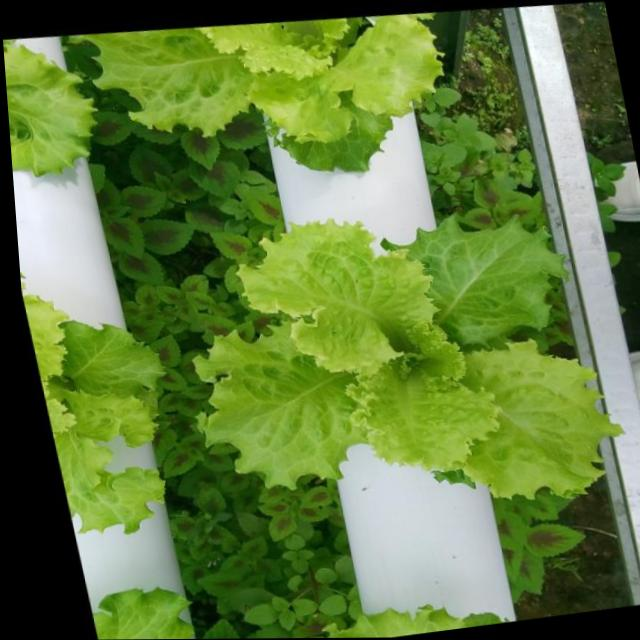Baby: (193, 212, 622, 497), (68, 12, 442, 170), (21, 281, 164, 533)
